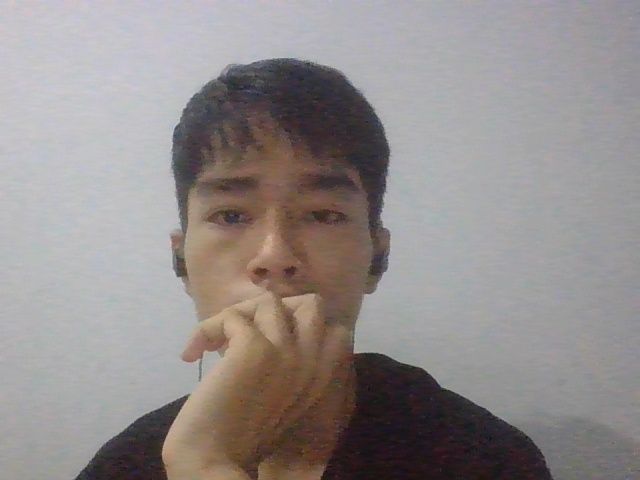real: (163, 47, 401, 385)
